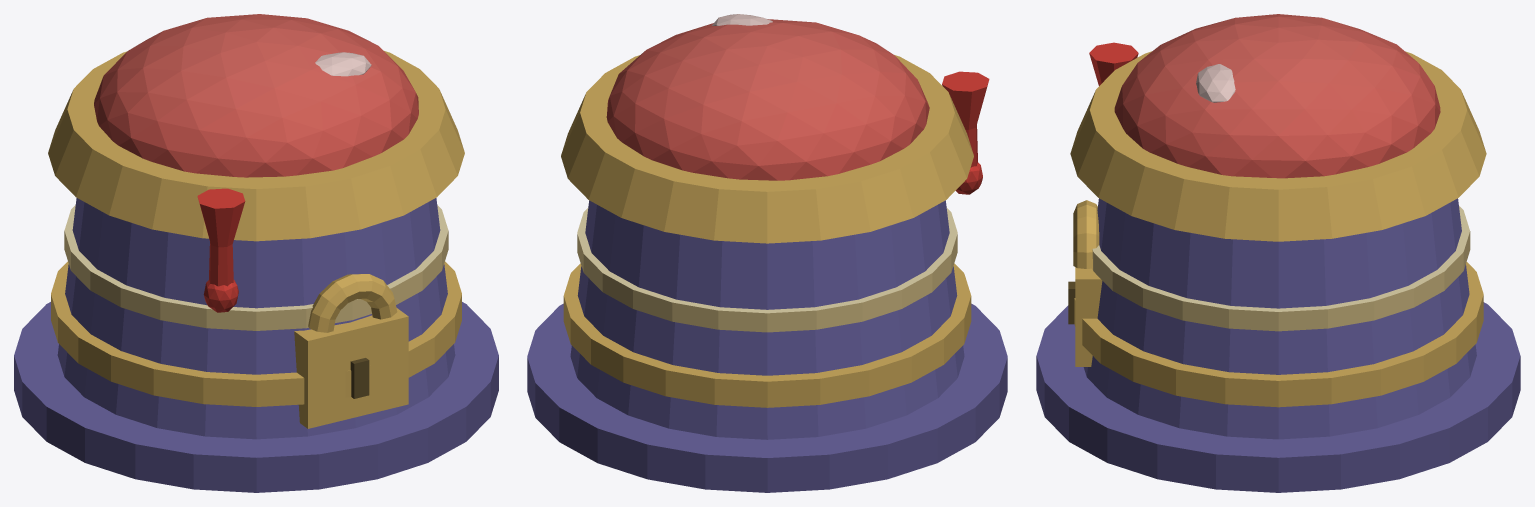
File: goo_lock_button@starlight.fbx
3 renders of one model, left to right at view 1: azimuth 30°, elevation 25°; view 2: azimuth 150°, elevation 25°; view 3: azimuth 270°, elevation 25°, orthographic.
Visible parts, largest first — view 1: goo_lock_button; view 2: goo_lock_button; view 3: goo_lock_button.
Part boxes in pixels (box(x1,y1,x2,y2)): goo_lock_button: box(14, 14, 498, 492); goo_lock_button: box(527, 14, 1007, 492); goo_lock_button: box(1036, 14, 1520, 492).
Size of the model in its own units: 5 by 3.97 by 5.
